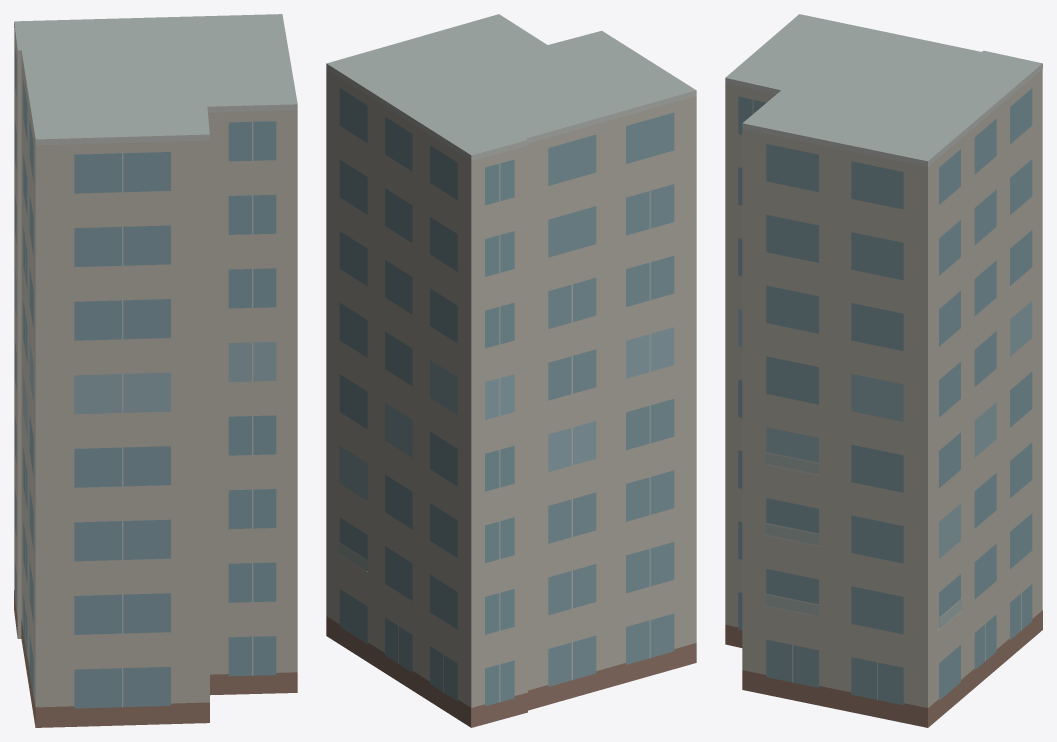
File: survey-upis-33015775.glb
3 renders of one model, left to right at view 1: azimuth 30°, elevation 25°; view 2: azimuth 150°, elevation 25°; view 3: azimuth 270°, elevation 25°, orthographic. The views are drawn at different scales.
Parts seen in each view (by area): view 1: survey-upis-33015775.tmp; view 2: survey-upis-33015775.tmp; view 3: survey-upis-33015775.tmp.
Boxes of the visible parts, left/top/right/bottom form: survey-upis-33015775.tmp: left=14, top=14, right=297, bottom=727; survey-upis-33015775.tmp: left=326, top=14, right=696, bottom=727; survey-upis-33015775.tmp: left=725, top=14, right=1042, bottom=727.
Bounding box in the file's own units: 13.76 × 24.65 × 12.53.
